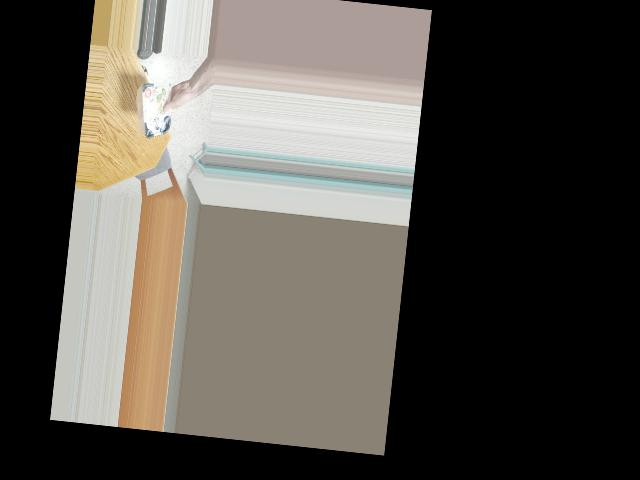cheese: (136, 82, 180, 137)
